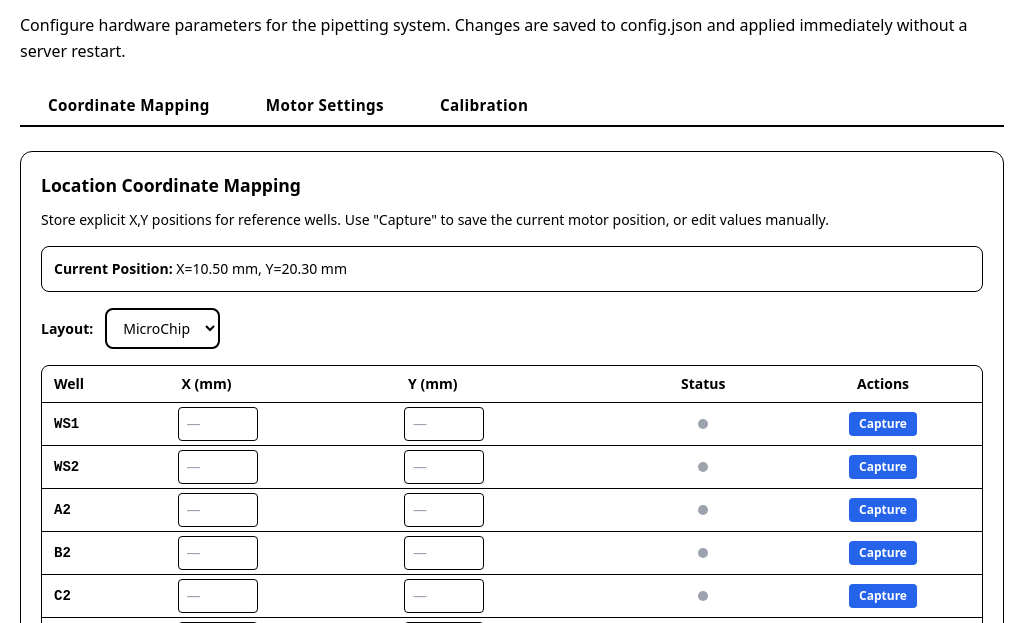
Test case: Settings sub-tab navigation › switching to Calibration shows calibration UI
Click the button "Calibration" at (484, 105), box 412,84 -> 556,127
(page scrolled)
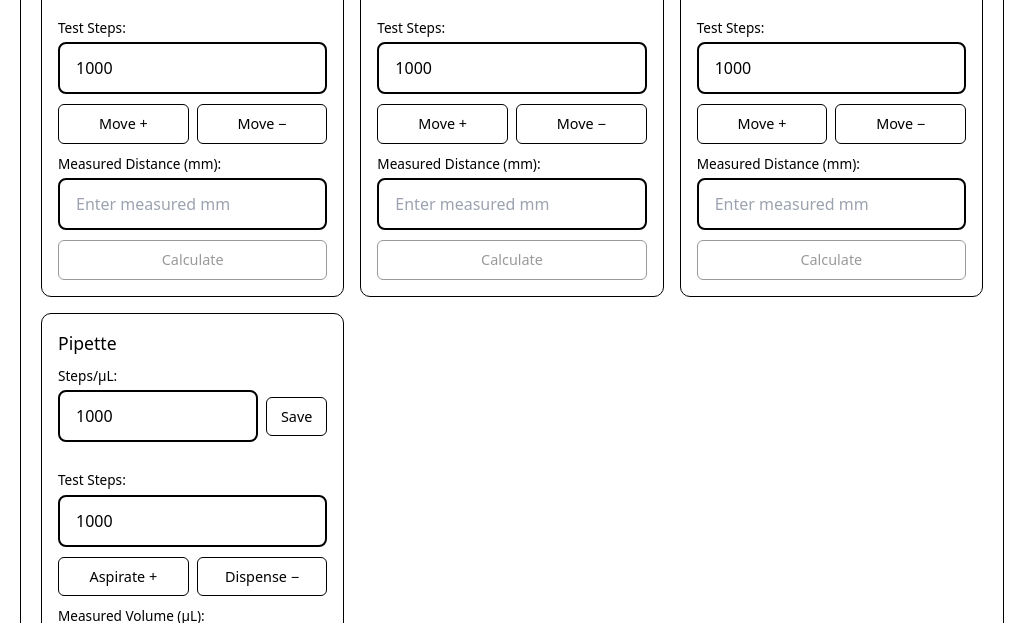
Expected: the heading "Pipette" is shown, 58,331 -> 117,355
